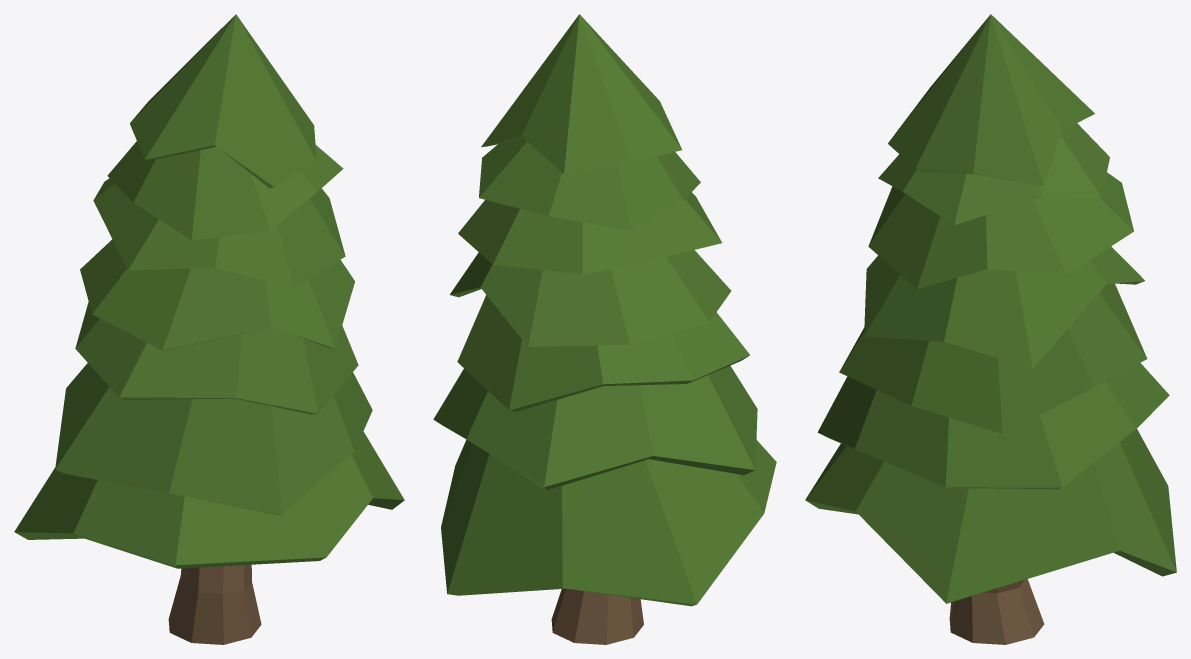
File: tree6.fbx
The picture shows the model from 3 angles, left to right: view 1: azimuth 30°, elevation 25°; view 2: azimuth 150°, elevation 25°; view 3: azimuth 270°, elevation 25°; orthographic projection. The views are drawn at different scales.
Parts seen in each view (by area): view 1: Cylinder.003; view 2: Cylinder.003; view 3: Cylinder.003.
Part boxes in pixels (box(x1,y1,x2,y2)): Cylinder.003: box(14, 14, 404, 644); Cylinder.003: box(433, 14, 776, 644); Cylinder.003: box(805, 14, 1176, 644).
Size of the model in its own units: 175 by 313 by 170.
